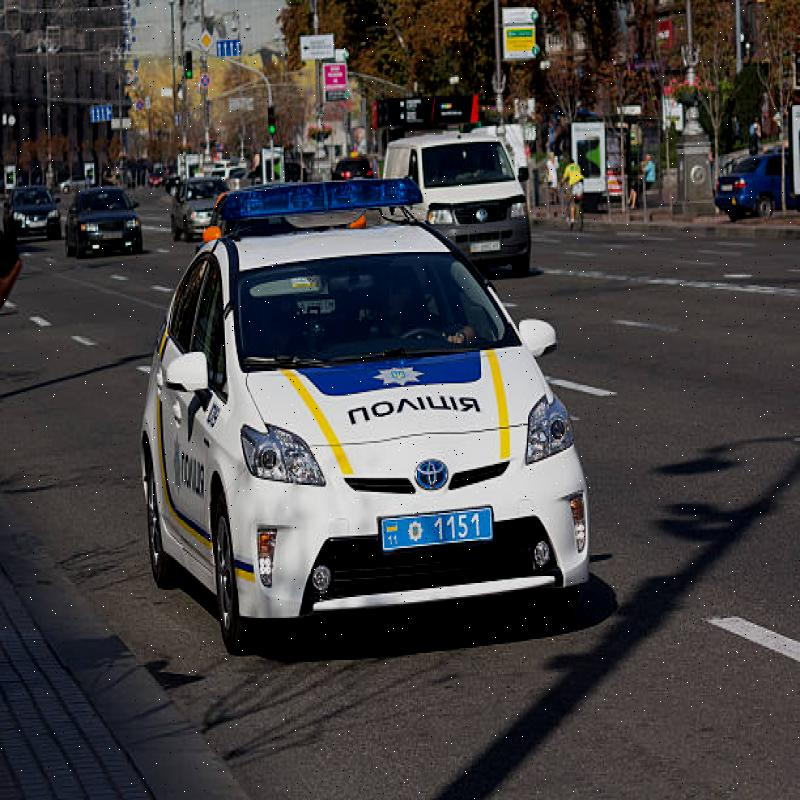AmbulanceSiren: (194, 156, 430, 217)
car: (147, 243, 607, 676)
